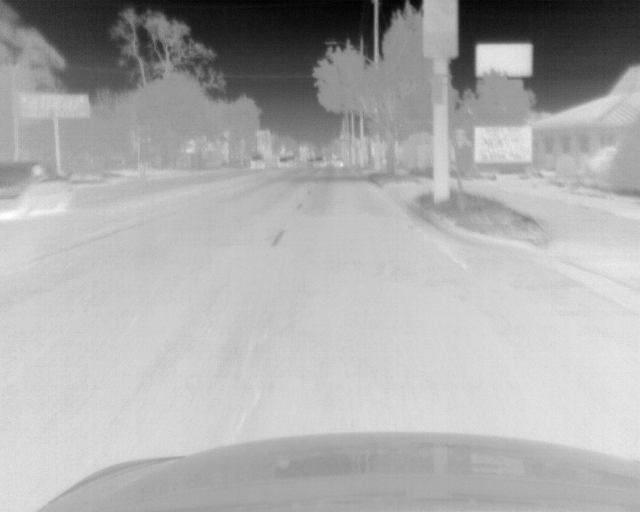car: (1, 160, 75, 218), (277, 153, 295, 169), (250, 155, 265, 171), (311, 155, 324, 168), (331, 156, 344, 168)
